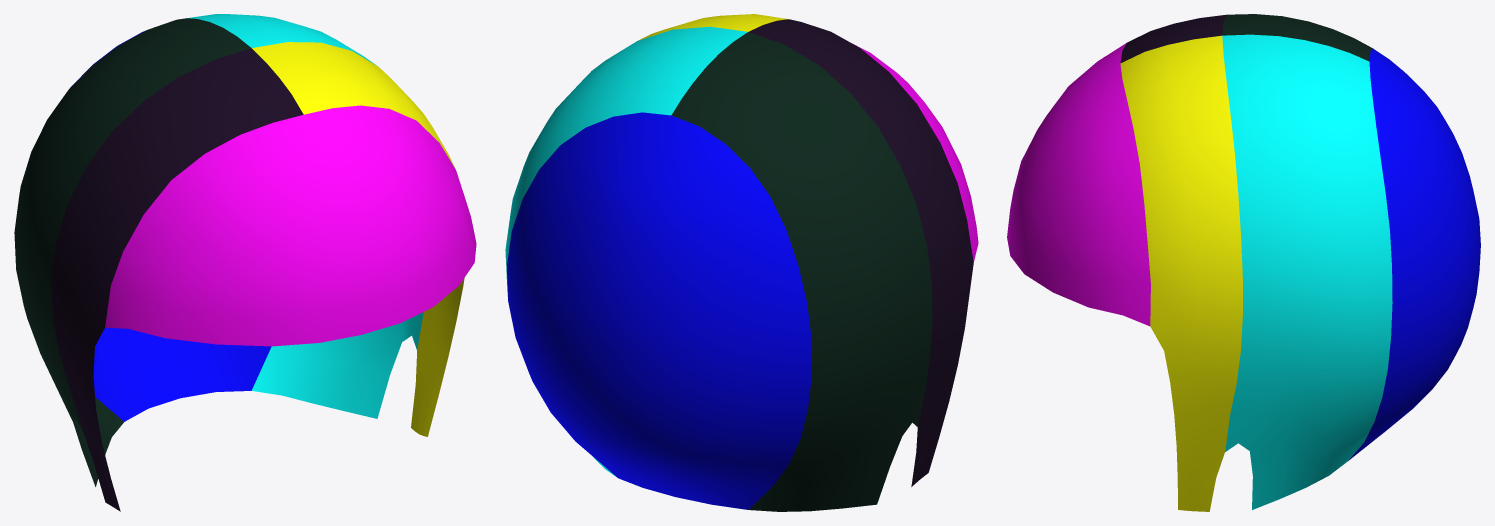
File: scalp-topology-template.obj
3 views of the same model, side by side, from view 1: azimuth 30°, elevation 25°; view 2: azimuth 150°, elevation 25°; view 3: azimuth 270°, elevation 25° (orthographic). The views are drawn at different scales.
Visible parts, largest first — view 1: polySurface15; view 2: polySurface15; view 3: polySurface15.
Part boxes in pixels (x1=…): polySurface15: x1=14, y1=14, x2=476, y2=511; polySurface15: x1=505, y1=14, x2=978, y2=511; polySurface15: x1=1007, y1=14, x2=1480, y2=511.
Size of the model in its own units: 18.82 by 19.75 by 20.77.
